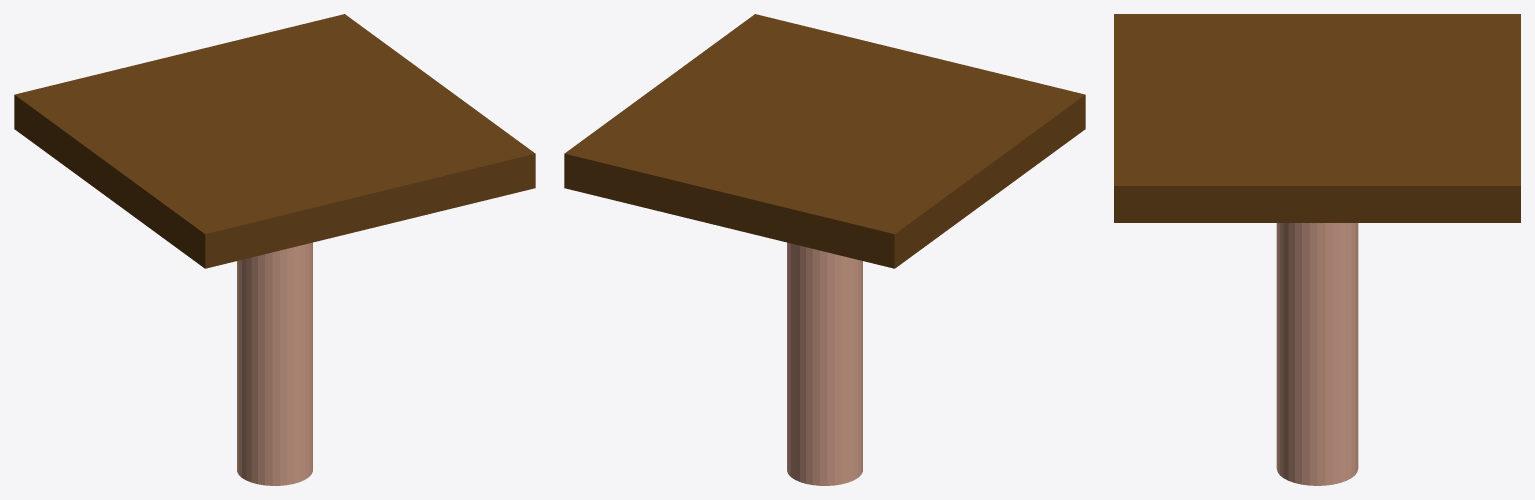
Rendered from platform_with_pole.glb.
3 renders of one model, left to right at view 1: azimuth 30°, elevation 25°; view 2: azimuth 150°, elevation 25°; view 3: azimuth 270°, elevation 25°, orthographic. The views are drawn at different scales.
Visible parts, largest first — view 1: Cube, Cylinder; view 2: Cube, Cylinder; view 3: Cube, Cylinder.
Boxes of the visible parts, bbox=[...] form: Cube: bbox=[14, 14, 535, 268]; Cylinder: bbox=[237, 242, 312, 485]; Cube: bbox=[564, 14, 1085, 268]; Cylinder: bbox=[787, 242, 862, 485]; Cube: bbox=[1114, 14, 1520, 222]; Cylinder: bbox=[1276, 223, 1358, 485].
Bounding box in the file's own units: 1 × 1 × 1.
